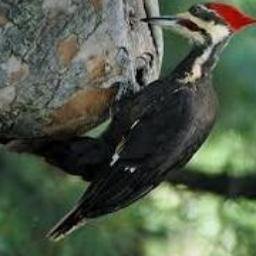Woodpecker: (44, 2, 256, 239)
